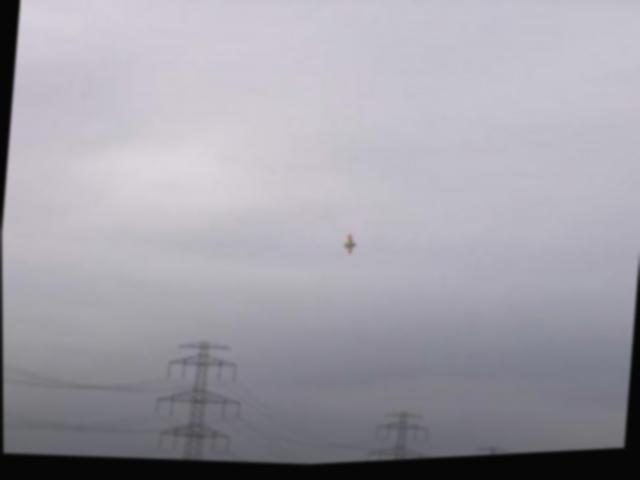iha: (337, 228, 363, 264)
